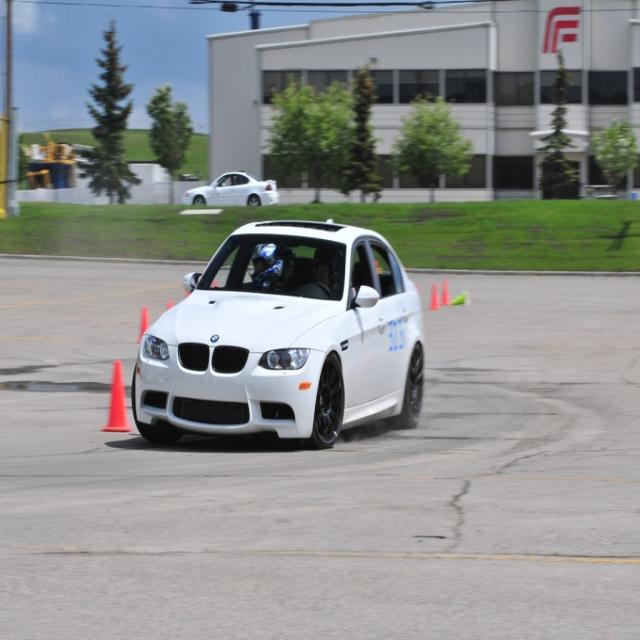car: (130, 216, 423, 454)
